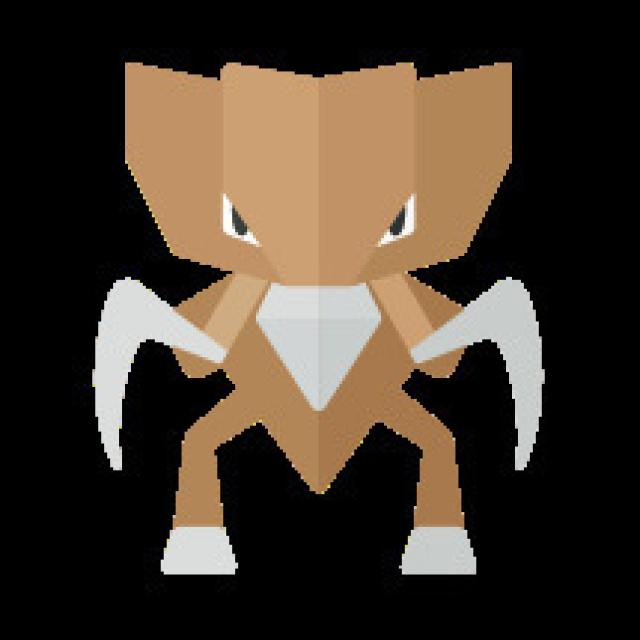Kabutops: (72, 51, 550, 595)
